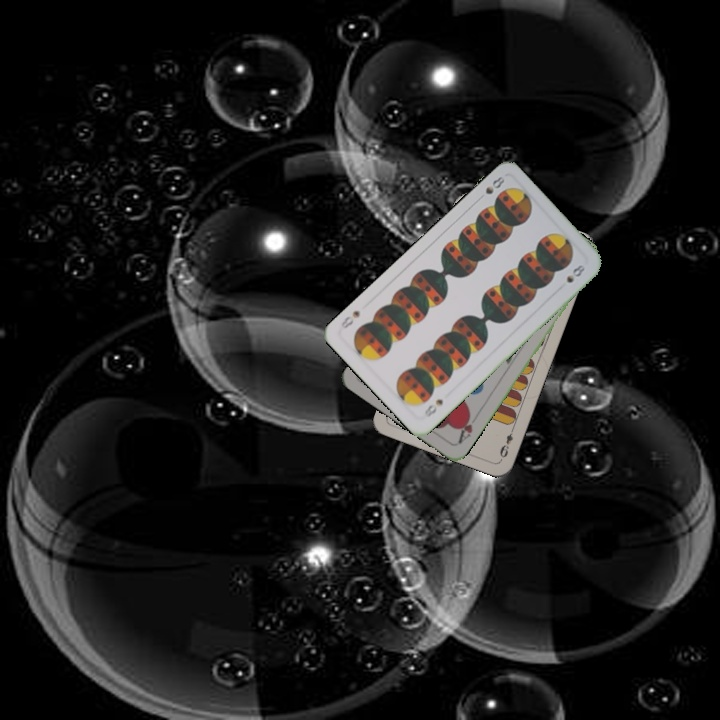E9: (496, 423, 517, 462)
HA: (454, 409, 481, 446)
S8: (473, 172, 507, 204), (421, 395, 446, 420)
